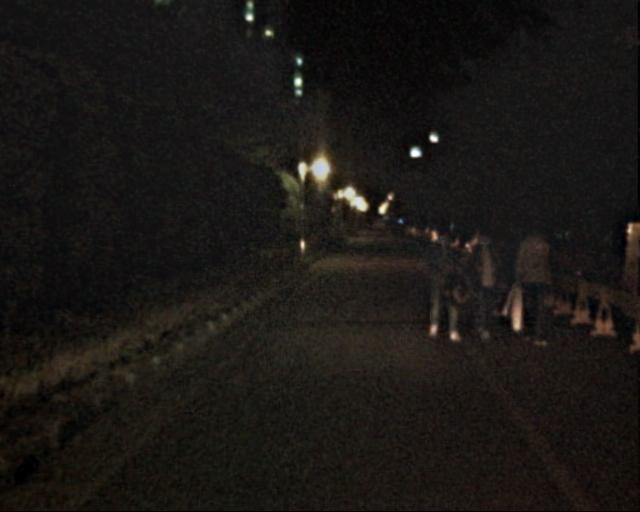person: (506, 227, 556, 348), (417, 233, 463, 345), (459, 232, 502, 336), (492, 237, 516, 296), (507, 224, 531, 282)
